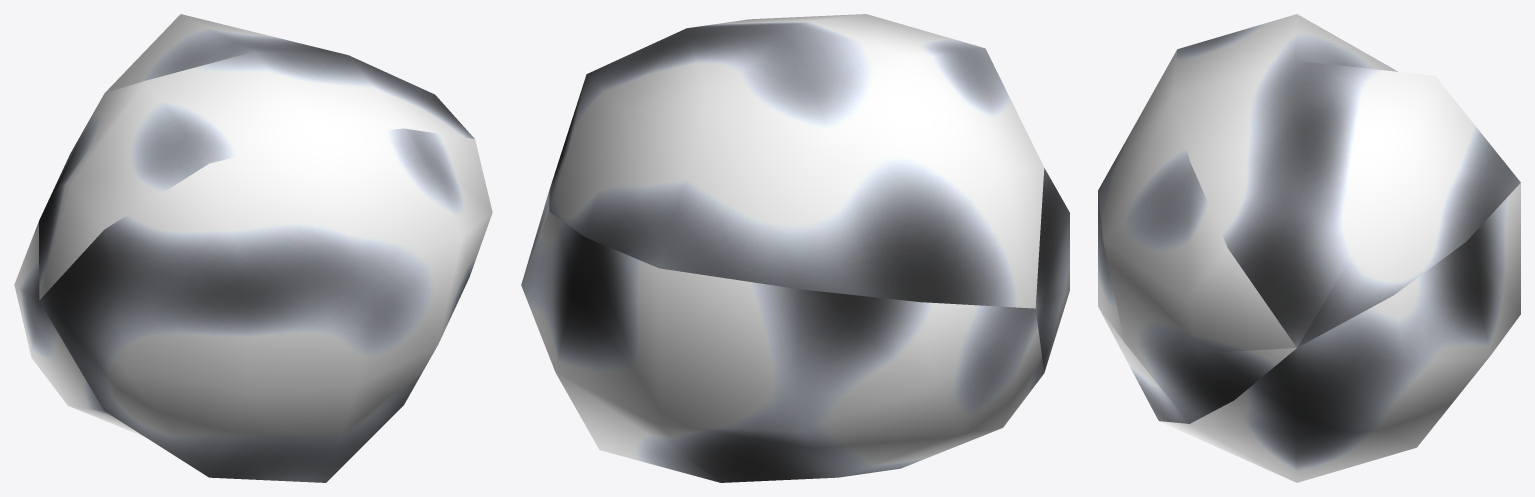
The model's file is Jai_Projectile_Mesh.fbx.
The picture shows the model from 3 angles, left to right: view 1: azimuth 30°, elevation 25°; view 2: azimuth 150°, elevation 25°; view 3: azimuth 270°, elevation 25°; orthographic projection. The views are drawn at different scales.
Visible parts, largest first — view 1: pSphere1; view 2: pSphere1; view 3: pSphere1.
Part boxes in pixels (x1,y1,x2,y2): pSphere1: (14, 14, 492, 482); pSphere1: (521, 14, 1069, 482); pSphere1: (1098, 14, 1520, 482).
Bounding box in the file's own units: 2 × 1.76 × 1.8.
1 material, 1 textured.
